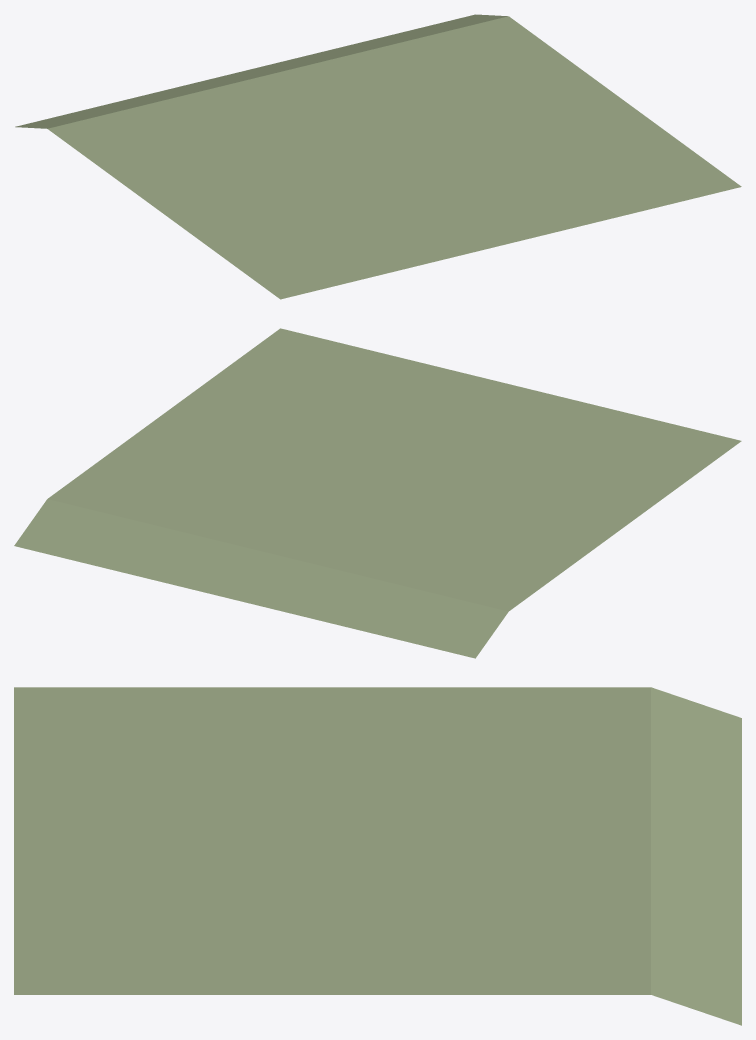
The model's file is town-2-2.glb.
3 renders of one model, top to bottom at view 1: azimuth 30°, elevation 25°; view 2: azimuth 150°, elevation 25°; view 3: azimuth 270°, elevation 25°, orthographic. The views are drawn at different scales.
Visible parts, largest first — view 1: town-2-2; view 2: town-2-2; view 3: town-2-2.
Part boxes in pixels (left/top/right/bottom): town-2-2: left=15, top=14, right=741, bottom=299; town-2-2: left=14, top=328, right=741, bottom=658; town-2-2: left=14, top=687, right=741, bottom=1025.
Bounding box in the file's own units: 128 × 6 × 128.
